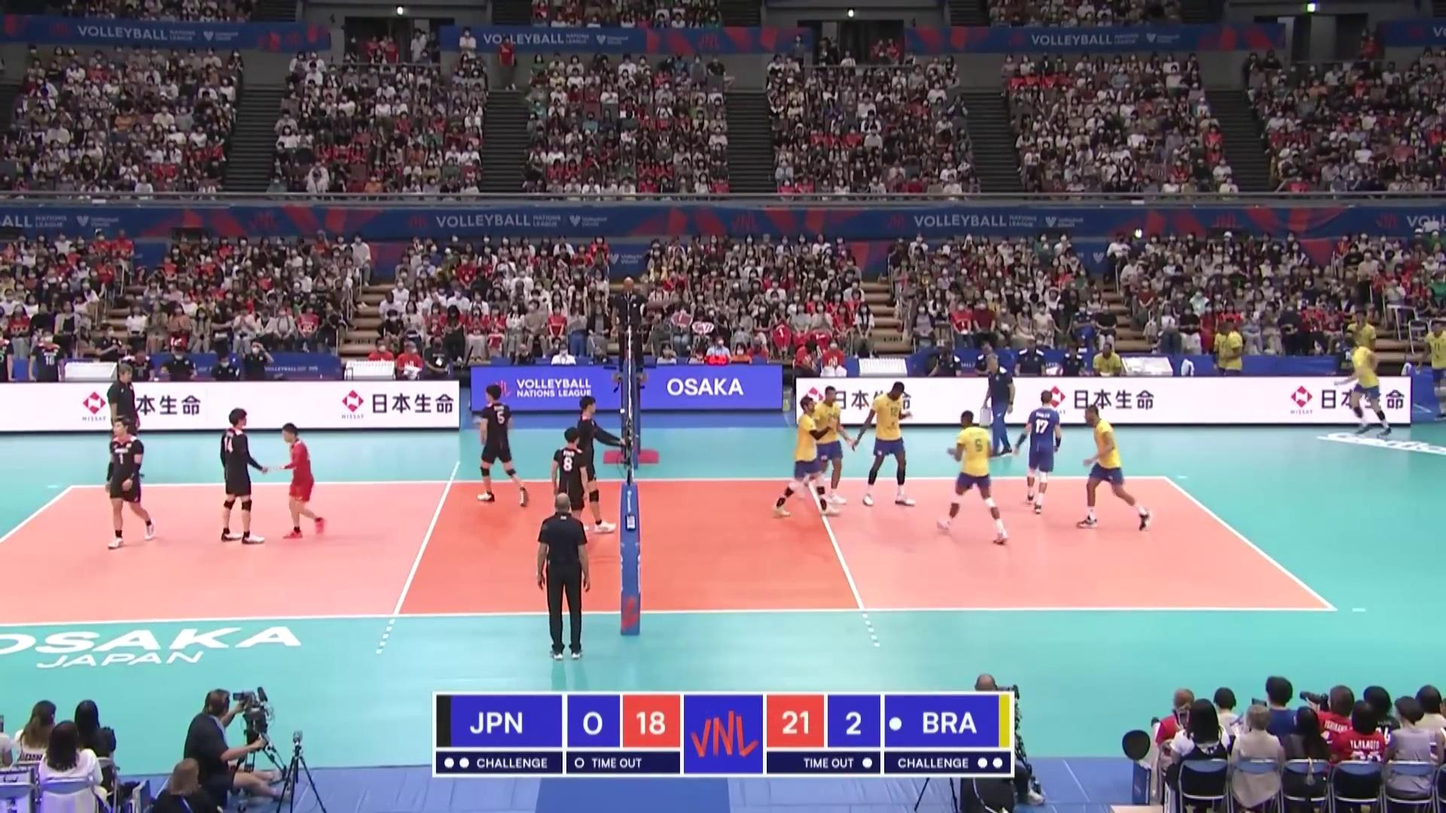player: (937, 410, 1010, 543), (1079, 406, 1153, 528), (859, 381, 913, 504), (775, 397, 828, 519), (576, 397, 623, 530), (107, 420, 156, 546), (221, 408, 266, 544), (478, 385, 528, 505), (277, 424, 325, 541), (1017, 392, 1063, 512), (811, 388, 848, 505), (552, 429, 589, 544)
refree: (534, 493, 591, 661), (611, 276, 648, 385)
